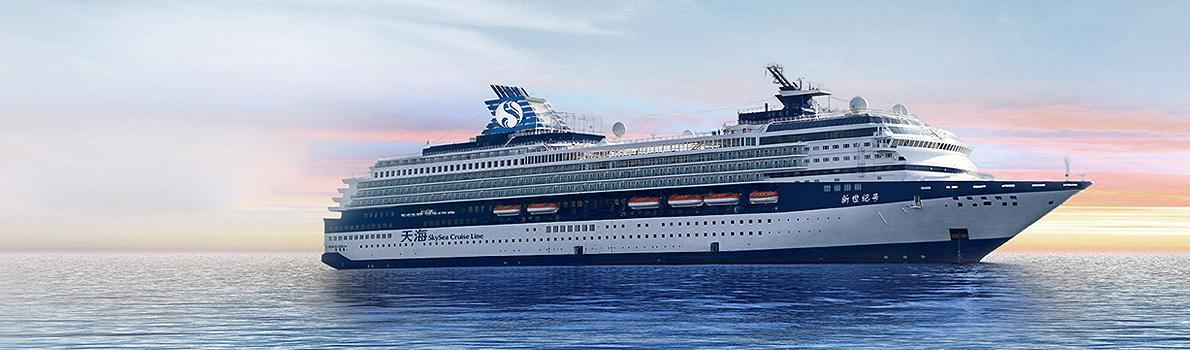Ship: (327, 72, 1090, 291)
